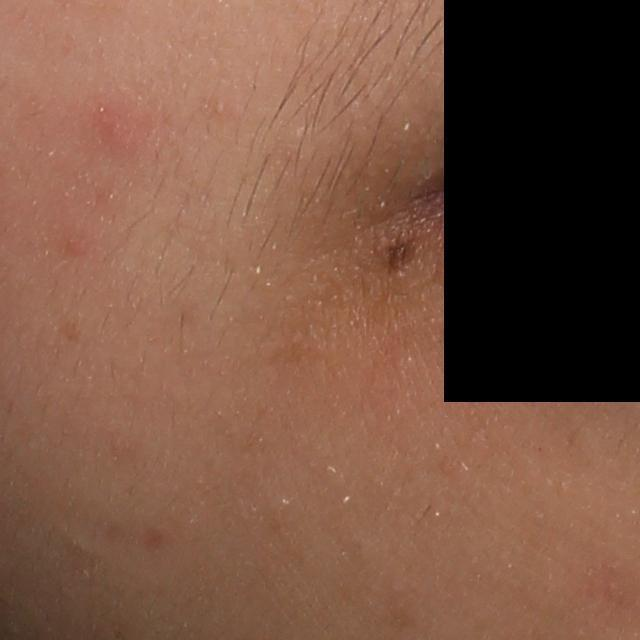nevus: (384, 239, 421, 280)
